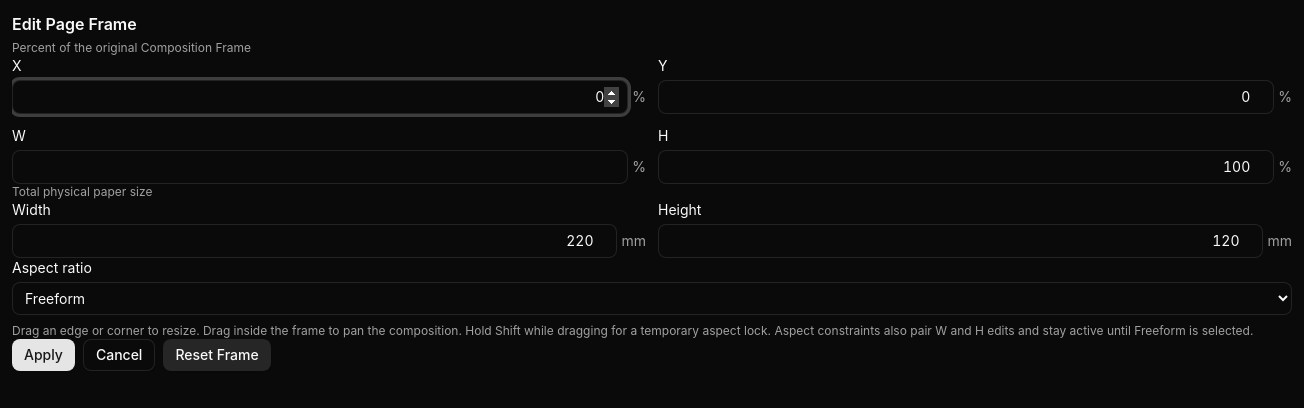
Scenario: PageFrameEditor › rejects invalid width  without committing
This screenshot has width=1304, height=408.
Click the button "Apply" at (43, 355), box [12, 339, 75, 371]
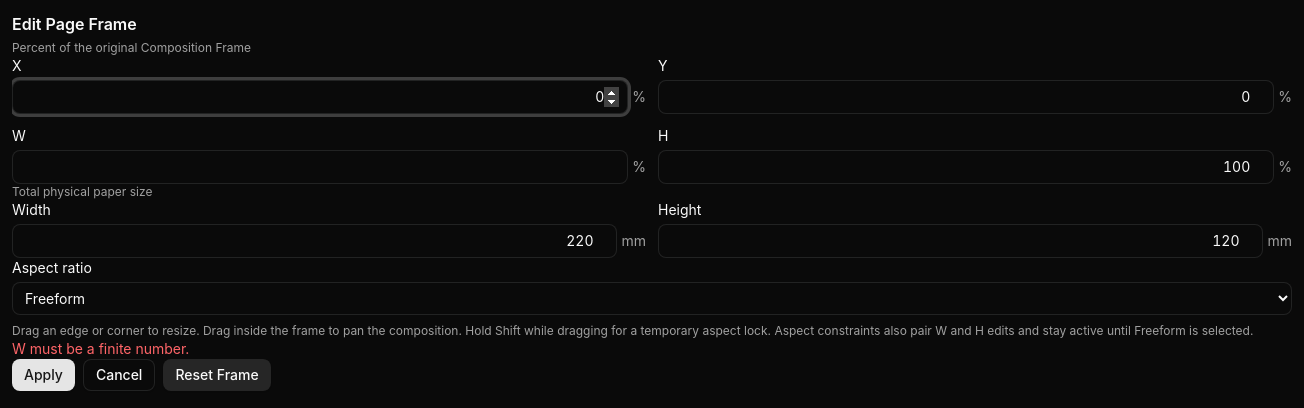
Result: the message "W must be a finite number." is shown at [12, 340, 189, 357]
